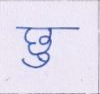u_matra: (21, 53, 51, 69)
